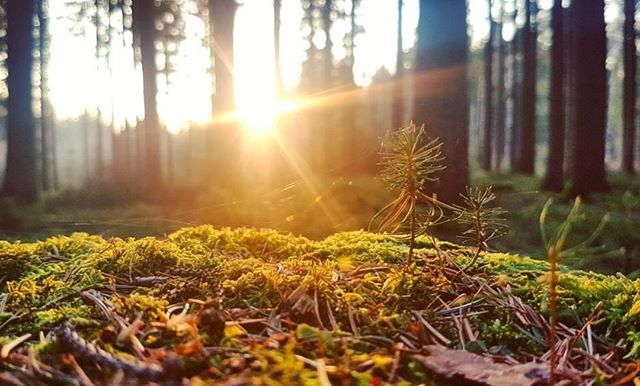vegetation: (1, 1, 640, 386)
